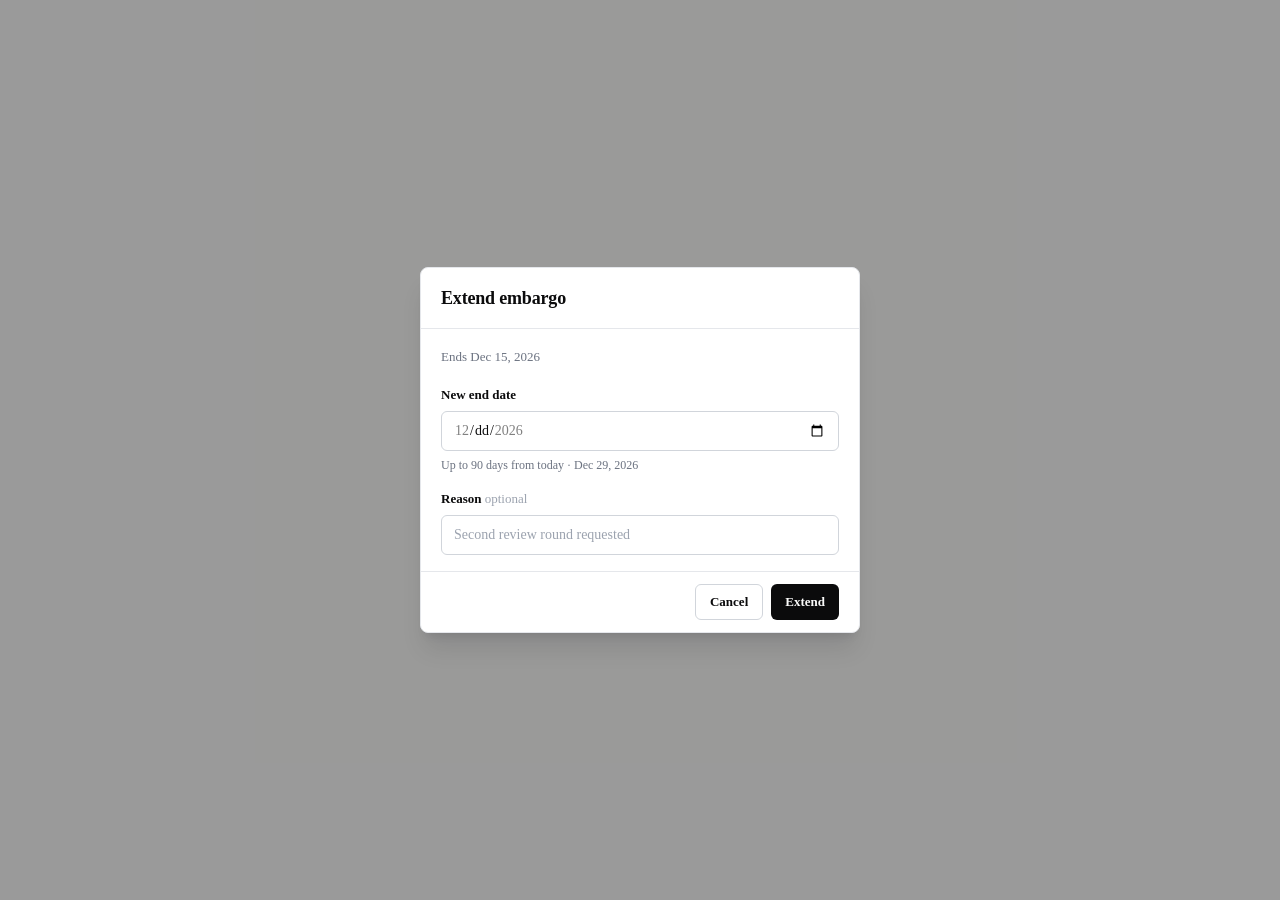
Test: ExtendEmbargoDialog › a date beyond 90 days is refused before it is sent
Type "2027-01-15" into the date field labelled "New end date" at (640, 431), box x1=441 y1=411 x2=839 y2=451
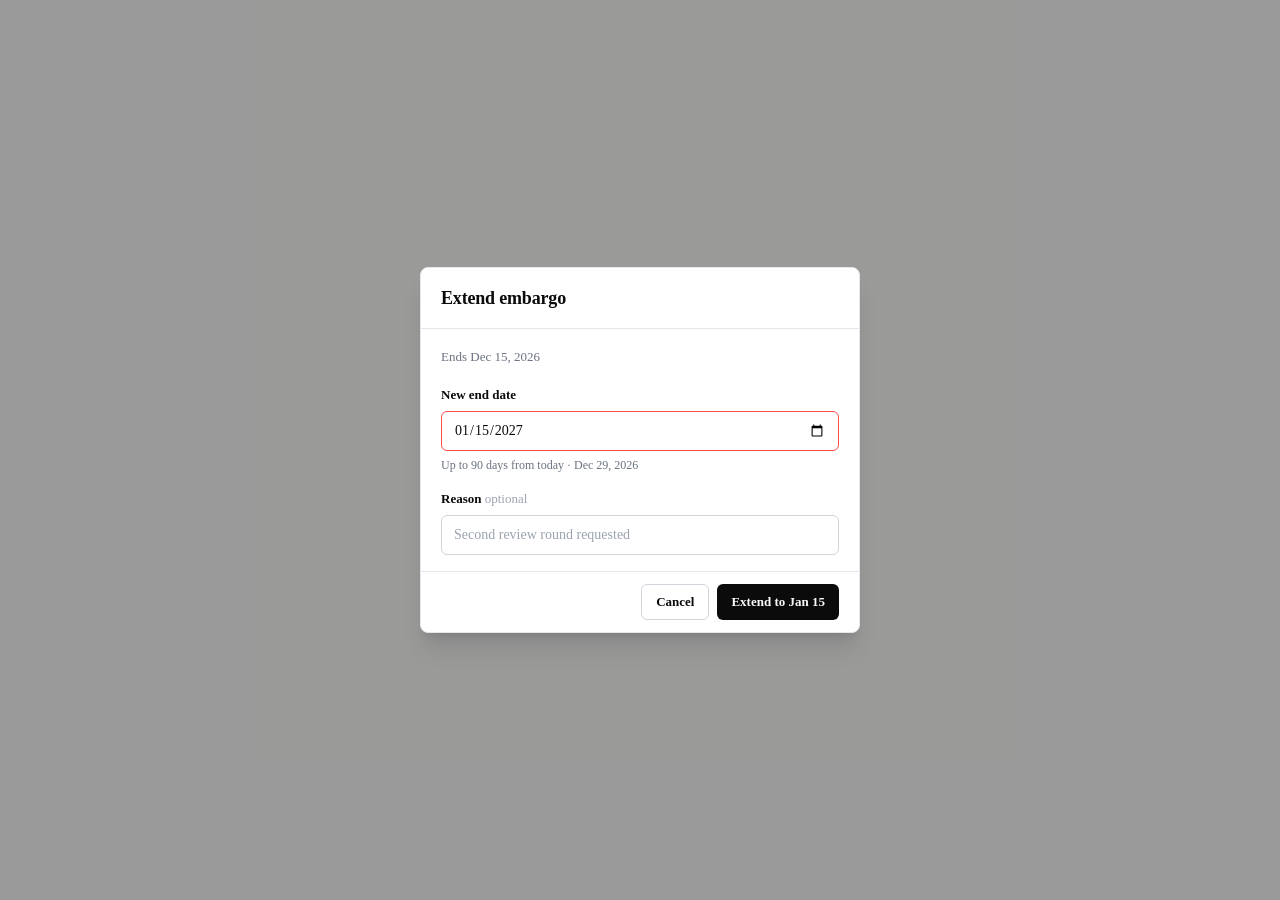
Click the button "Extend to Jan 15" at (778, 602), box x1=718 y1=584 x2=839 y2=620
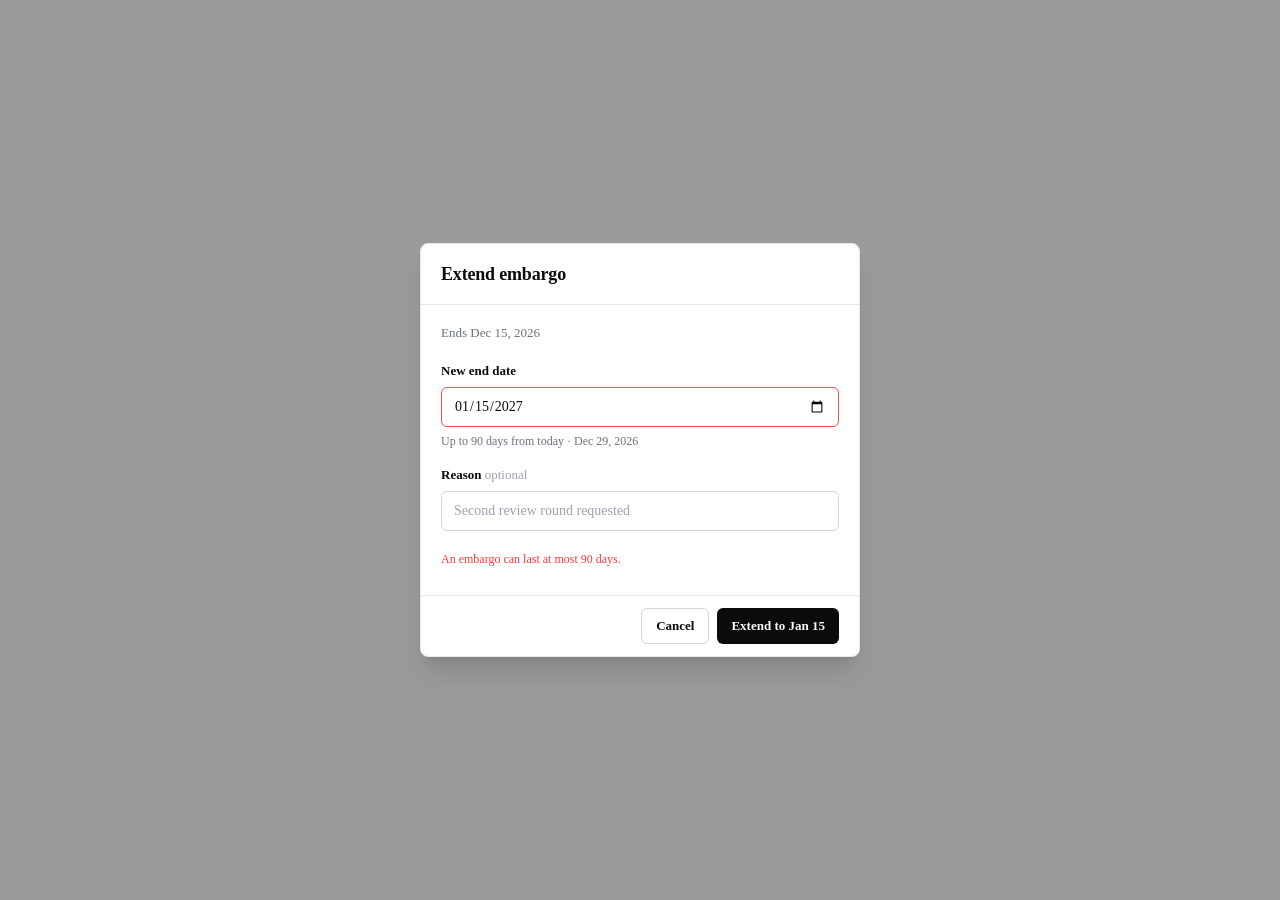
Expected: the text "An embargo can last at most 90 days." is shown, x1=441 y1=552 x2=621 y2=566
